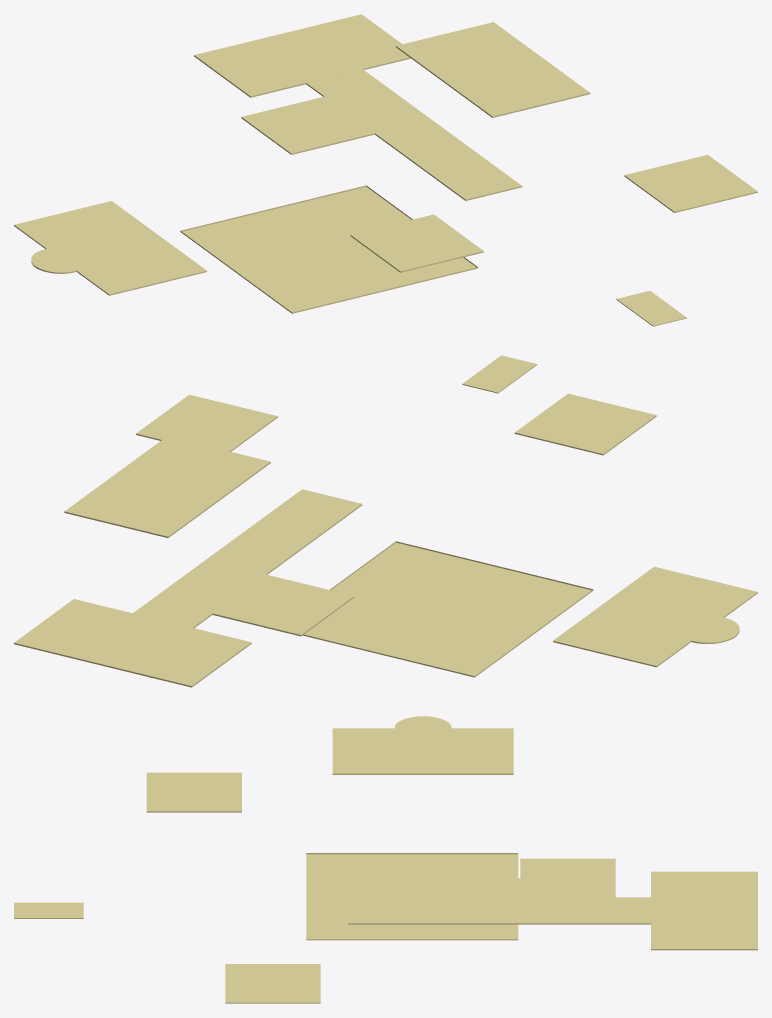
File: Floors.fbx
The picture shows the model from 3 angles, top to bottom: view 1: azimuth 30°, elevation 25°; view 2: azimuth 150°, elevation 25°; view 3: azimuth 270°, elevation 25°; orthographic projection. The views are drawn at different scales.
Parts seen in each view (by area): view 1: FloorBasement, FloorMediumRoom3, FloorMedRoom2, FloorMedRoom, BigCorridorFloor1, FloorSmallRoom3, FloorSmallRoom2, FloorSmallRoom, EntranceCorridorFloor; view 2: FloorBasement, FloorMediumRoom3, FloorMedRoom, FloorMedRoom2, BigCorridorFloor1, FloorSmallRoom3, FloorSmallRoom2, FloorSmallRoom, EntranceCorridorFloor; view 3: FloorBasement, FloorMediumRoom3, FloorMedRoom2, FloorMedRoom, FloorSmallRoom2, FloorSmallRoom, BigCorridorFloor1, FloorSmallRoom3, EntranceCorridorFloor.
Boxes of the visible parts, x1,y1,x2,y2 form: FloorBasement: (180, 185, 478, 313); FloorMediumRoom3: (14, 201, 206, 295); FloorMedRoom2: (396, 22, 590, 117); FloorMedRoom: (194, 14, 410, 97); BigCorridorFloor1: (306, 69, 522, 200); FloorSmallRoom3: (241, 96, 374, 154); FloorSmallRoom2: (350, 214, 483, 272); FloorSmallRoom: (624, 155, 757, 212); EntranceCorridorFloor: (616, 291, 686, 326); FloorBasement: (303, 541, 593, 677); FloorMediumRoom3: (553, 566, 757, 667); FloorMedRoom: (14, 599, 251, 687); FloorMedRoom2: (64, 436, 270, 537); BigCorridorFloor1: (133, 489, 362, 628); FloorSmallRoom3: (212, 574, 354, 636); FloorSmallRoom2: (514, 393, 656, 455); FloorSmallRoom: (136, 394, 277, 451); EntranceCorridorFloor: (462, 355, 537, 393); FloorBasement: (306, 853, 518, 940); FloorMediumRoom3: (332, 716, 513, 774); FloorMedRoom2: (404, 878, 587, 924); FloorMedRoom: (651, 871, 757, 950); FloorSmallRoom2: (146, 772, 241, 812); FloorSmallRoom: (225, 964, 320, 1003); BigCorridorFloor1: (348, 897, 650, 924); FloorSmallRoom3: (520, 858, 615, 897); EntranceCorridorFloor: (14, 902, 83, 918).
Size of the model in its own units: 112 by 16.99 by 123.
